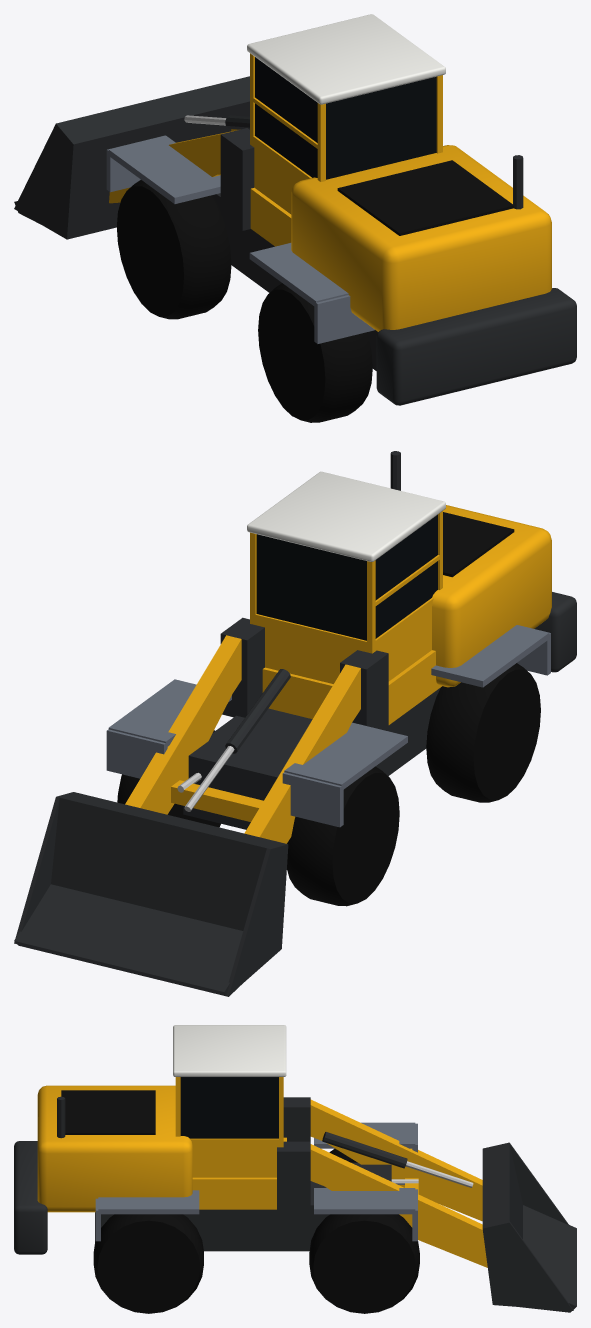
Rendered from plant.earthmoving.wheel_loader.glb.
3 views of the same model, one above another, from view 1: azimuth 30°, elevation 25°; view 2: azimuth 150°, elevation 25°; view 3: azimuth 270°, elevation 25° (orthographic). The views are drawn at different scales.
Visible parts, largest first — view 1: body__plant_yellow, wheels__rubber, body__steel_dark, bucket__steel_dark, body__glass_dark, body__paint_white, body__steel_painted, body__plastic_black, arms__steel_dark, arms__plant_yellow; view 2: bucket__steel_dark, body__plant_yellow, wheels__rubber, body__steel_painted, arms__plant_yellow, body__glass_dark, body__steel_dark, body__paint_white, arms__steel_dark, body__plastic_black, arms__steel_stainless; view 3: body__plant_yellow, wheels__rubber, bucket__steel_dark, arms__plant_yellow, body__steel_dark, body__glass_dark, body__paint_white, body__steel_painted, arms__steel_dark, body__plastic_black, arms__steel_stainless.
Boxes of the visible parts, left/top/right/bottom form: body__plant_yellow: left=250, top=53, right=551, bottom=331; wheels__rubber: left=116, top=180, right=372, bottom=422; body__steel_dark: left=212, top=155, right=576, bottom=405; bucket__steel_dark: left=14, top=76, right=249, bottom=239; body__glass_dark: left=255, top=57, right=436, bottom=179; body__paint_white: left=247, top=14, right=445, bottom=104; body__steel_painted: left=106, top=135, right=374, bottom=343; body__plastic_black: left=337, top=160, right=513, bottom=235; arms__steel_dark: left=220, top=115, right=254, bottom=230; arms__plant_yellow: left=109, top=129, right=239, bottom=203; bucket__steel_dark: left=14, top=792, right=288, bottom=996; body__plant_yellow: left=250, top=505, right=551, bottom=724; wheels__rubber: left=117, top=663, right=540, bottom=906; body__steel_painted: left=106, top=625, right=550, bottom=827; arms__plant_yellow: left=125, top=635, right=360, bottom=843; body__glass_dark: left=256, top=514, right=437, bottom=640; body__steel_dark: left=183, top=451, right=576, bottom=829; body__paint_white: left=247, top=471, right=445, bottom=561; arms__steel_dark: left=220, top=617, right=388, bottom=753; body__plastic_black: left=443, top=512, right=514, bottom=577; arms__steel_stainless: left=177, top=746, right=234, bottom=811; body__plant_yellow: left=37, top=1077, right=286, bottom=1212; wheels__rubber: left=93, top=1148, right=419, bottom=1313; bucket__steel_dark: left=482, top=1142, right=576, bottom=1312; arms__plant_yellow: left=310, top=1099, right=487, bottom=1267; body__steel_dark: left=14, top=1096, right=391, bottom=1254; body__glass_dark: left=180, top=1077, right=278, bottom=1138; body__paint_white: left=173, top=1025, right=286, bottom=1076; body__steel_painted: left=95, top=1122, right=417, bottom=1241; arms__steel_dark: left=277, top=1097, right=407, bottom=1212; body__plastic_black: left=61, top=1090, right=155, bottom=1134; arms__steel_stainless: left=391, top=1161, right=473, bottom=1187.
Bounding box in the file's own units: 3.05 × 3.75 × 8.35.
